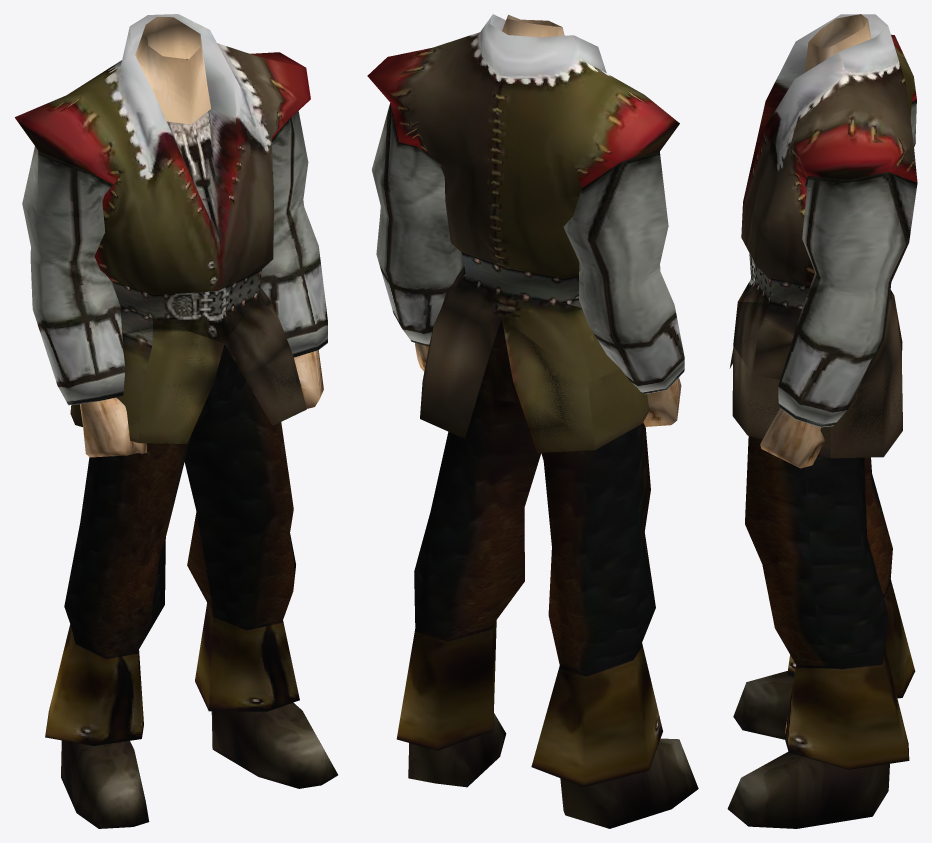
Rendered from ARMOR_VLK_H.glb.
3 views of the same model, side by side, from view 1: azimuth 30°, elevation 25°; view 2: azimuth 150°, elevation 25°; view 3: azimuth 270°, elevation 25° (orthographic). The views are drawn at different scales.
Visible parts, largest first — view 1: ARMOR_VLK_H; view 2: ARMOR_VLK_H; view 3: ARMOR_VLK_H.
Boxes of the visible parts, x1,y1,x2,y2 form: ARMOR_VLK_H: (15,14,337,828); ARMOR_VLK_H: (367,14,698,828); ARMOR_VLK_H: (727,14,917,828).
Size of the model in its own units: 0.6514 by 1.69 by 0.3884.
Materials: 2 (2 with a texture image).
